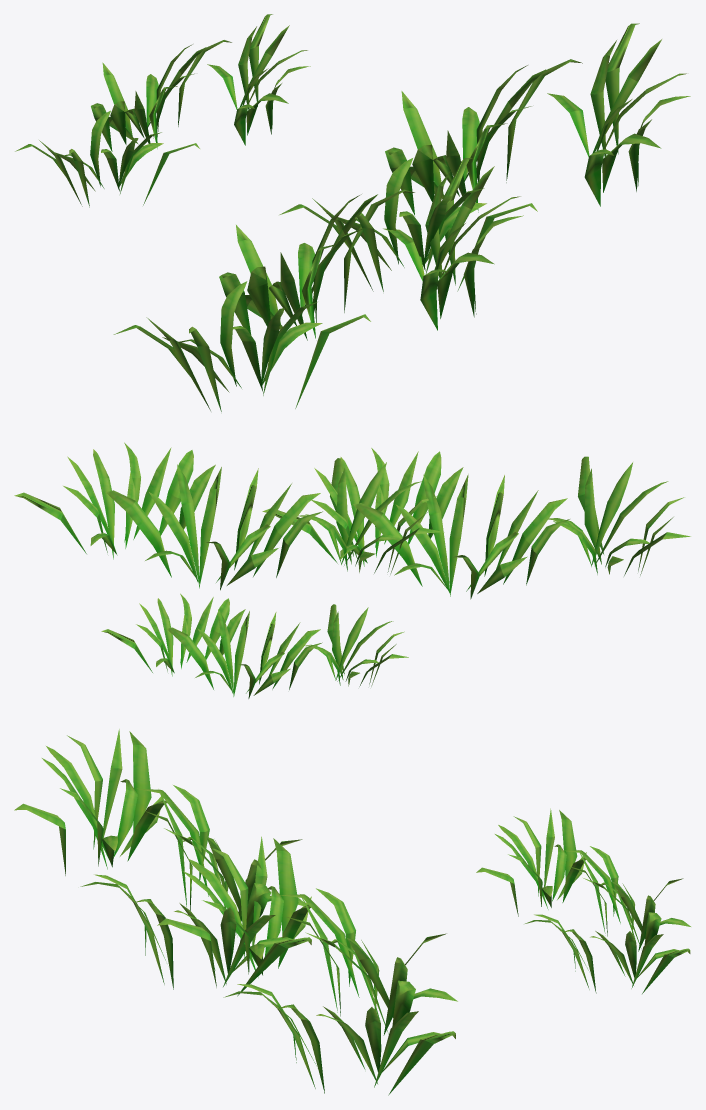
Rendered from cao_fenzu05.fbx.
The picture shows the model from 3 angles, top to bottom: view 1: azimuth 30°, elevation 25°; view 2: azimuth 150°, elevation 25°; view 3: azimuth 270°, elevation 25°; orthographic projection. The views are drawn at different scales.
Visible parts, largest first — view 1: cao_07__355__1; view 2: cao_07__355__1; view 3: cao_07__355__1.
Boxes of the visible parts, bbox=[...] form: cao_07__355__1: bbox=[15, 14, 690, 411]; cao_07__355__1: bbox=[14, 442, 690, 698]; cao_07__355__1: bbox=[14, 729, 690, 1095].
Size of the model in its own units: 1586 by 312 by 1430.
